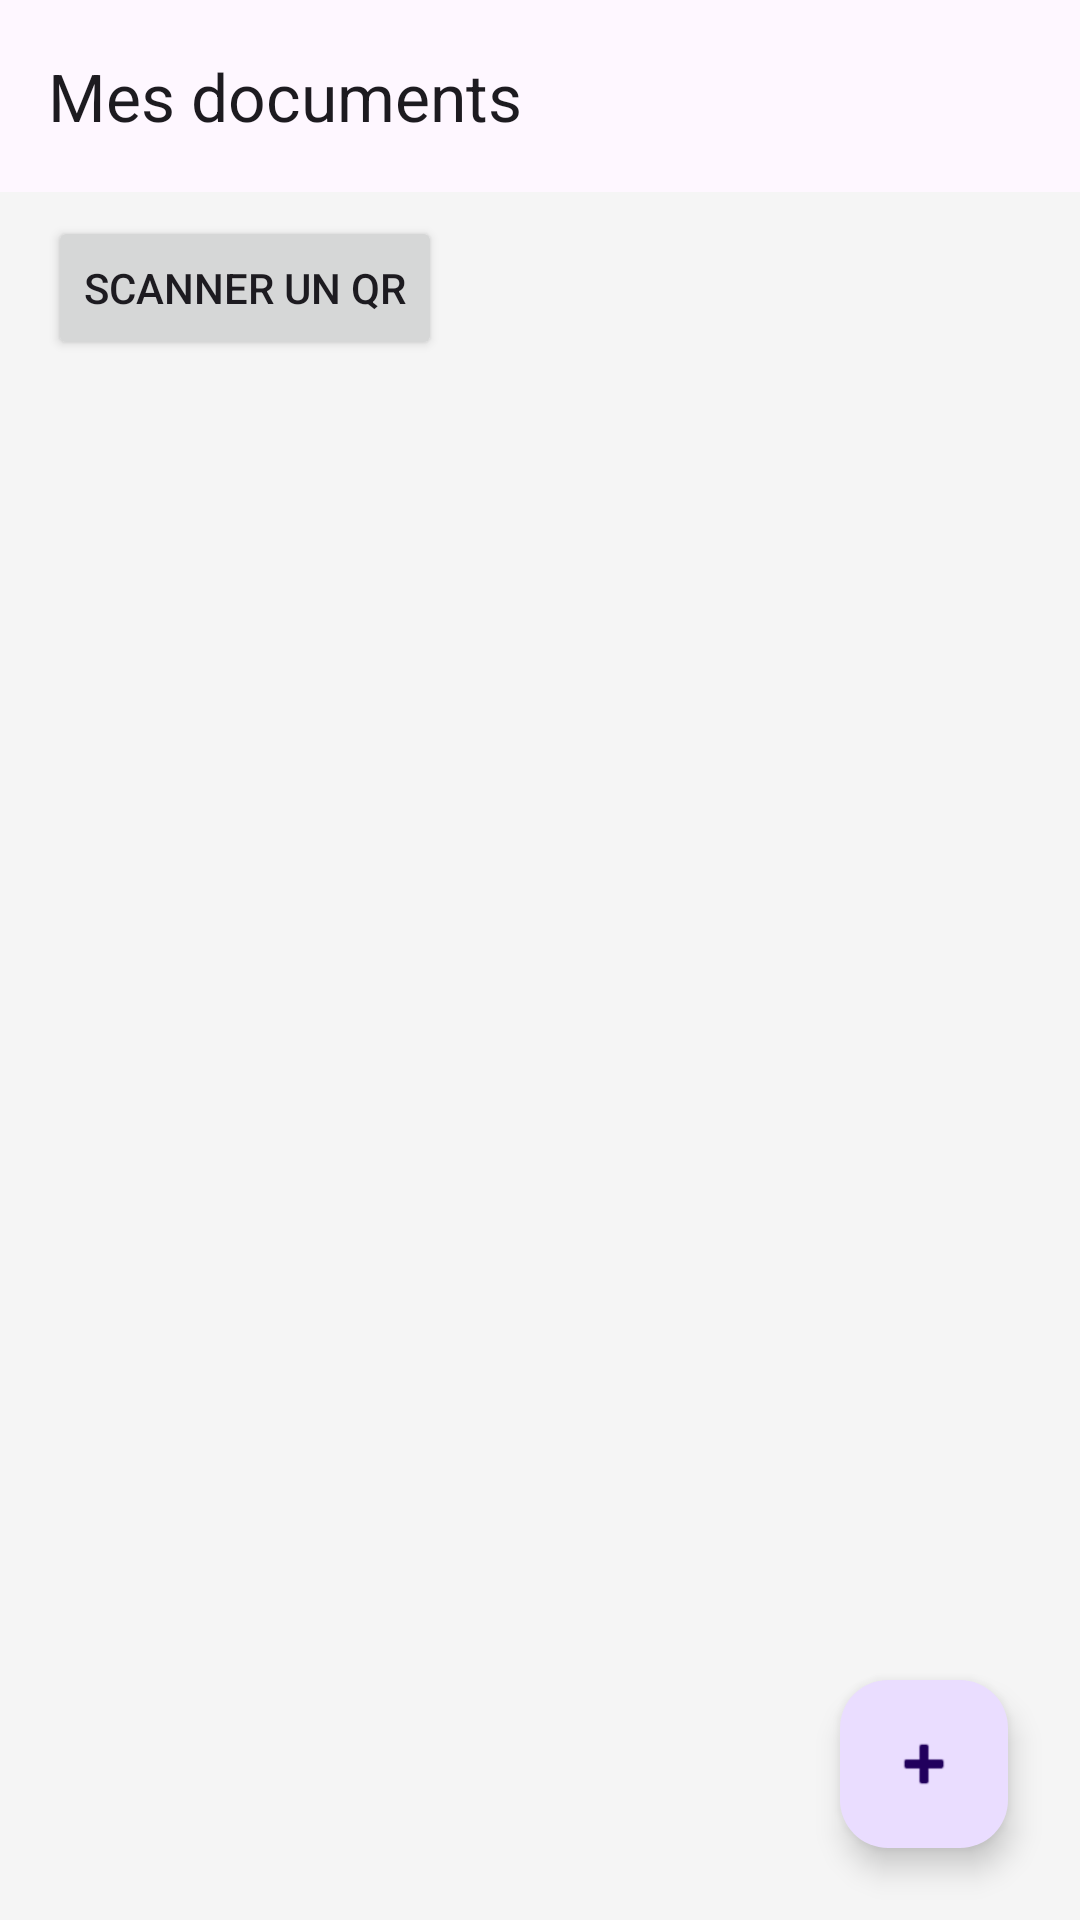

Where icons sit on this 1080px×1920px app screen, as [x1, y1, x2, y2]:
Ajouter un document: [840, 1680, 1008, 1848]
